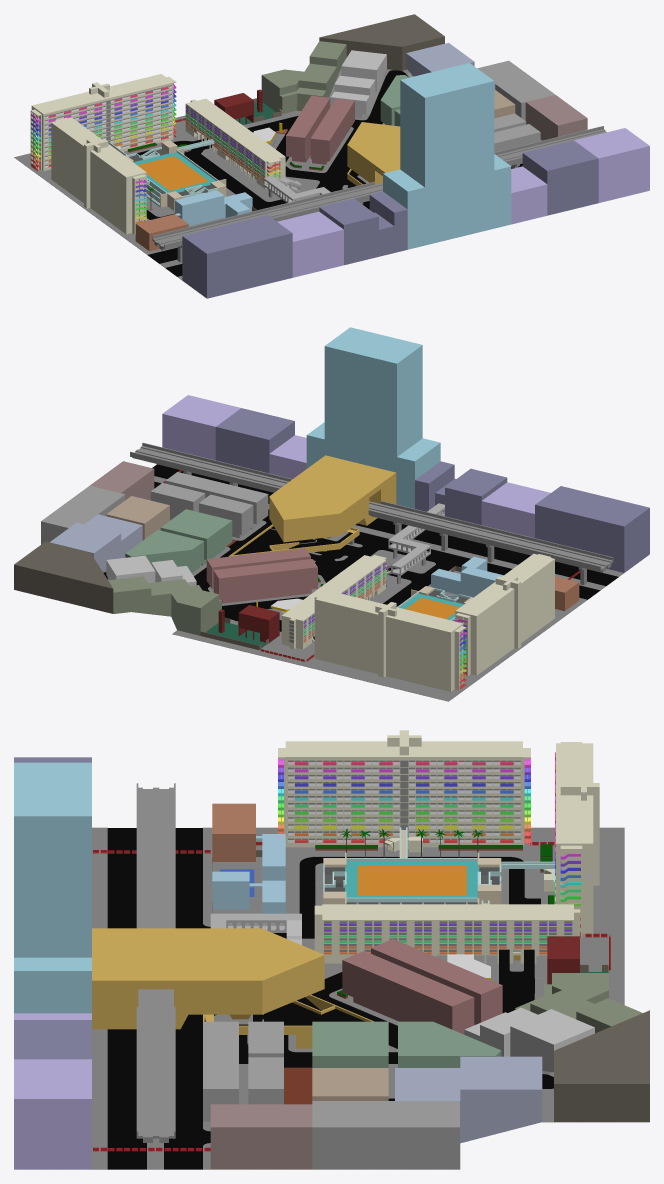
File: Map Draft Export 1.1.fbx
3 views of the same model, one above another, from view 1: azimuth 30°, elevation 25°; view 2: azimuth 150°, elevation 25°; view 3: azimuth 270°, elevation 25° (orthographic). The views are drawn at different scales.
Parts seen in each view (by area): view 1: Industrial Main, Industrial 1, Estate 1 Frame, * Block (Update), * Roads, Industrial 3, Estate 2 Details, Industrial 5, Industrial 6, Wet Market 2, Tong Lau 1, Unnamed 3 (+23 smaller); view 2: Industrial Main, Estate 2 Frame, Terminal Upper Others, * Roads, * Block (Update), Estate 1 Frame, Industrial 1, Tong Lau 1, Unnamed 3, Rail Set (Left), Wet Market 2, Tong Lau 2 (+23 smaller); view 3: * Roads, * Block (Update), Industrial Main, Terminal Upper Others, Estate 1 Details, Unnamed 2, Tong Lau 1, Estate 3 Main Complex Details, Unnamed 3, Industrial 6, Tong Lau 5, Tong Lau 3 (+27 smaller).
Part boxes in pixels (x1,y1,x2,y2): Industrial Main: [383, 63, 511, 249]; Industrial 1: [182, 215, 292, 298]; Estate 1 Frame: [51, 117, 146, 234]; * Block (Update): [14, 68, 541, 286]; * Roads: [137, 70, 522, 276]; Industrial 3: [319, 191, 407, 265]; Estate 2 Details: [44, 84, 172, 169]; Industrial 5: [522, 140, 598, 215]; Industrial 6: [574, 128, 649, 202]; Wet Market 2: [261, 41, 346, 113]; Tong Lau 1: [286, 95, 354, 164]; Unnamed 3: [319, 14, 444, 70]; Industrial Main: [306, 327, 440, 508]; Estate 2 Frame: [315, 590, 463, 691]; Terminal Upper Others: [269, 455, 396, 542]; * Roads: [103, 464, 618, 639]; * Block (Update): [36, 464, 623, 701]; Estate 1 Frame: [455, 553, 554, 675]; Industrial 1: [535, 486, 649, 572]; Tong Lau 1: [206, 548, 317, 603]; Unnamed 3: [14, 541, 113, 613]; Rail Set (Left): [368, 501, 613, 585]; Wet Market 2: [108, 576, 221, 635]; Tong Lau 2: [150, 472, 268, 538]; * Roads: [107, 828, 553, 1169]; * Block (Update): [20, 827, 649, 1169]; Industrial Main: [14, 762, 91, 1013]; Terminal Upper Others: [92, 928, 324, 1029]; Estate 1 Details: [287, 760, 521, 844]; Unnamed 2: [312, 1101, 459, 1169]; Tong Lau 1: [342, 939, 502, 1034]; Estate 3 Main Complex Details: [335, 904, 559, 963]; Unnamed 3: [554, 1010, 649, 1122]; Industrial 6: [14, 1059, 91, 1169]; Tong Lau 5: [395, 1056, 542, 1143]; Tong Lau 3: [312, 1021, 501, 1067].
Bounding box in the file's own units: 52754 × 17178 × 40727.
